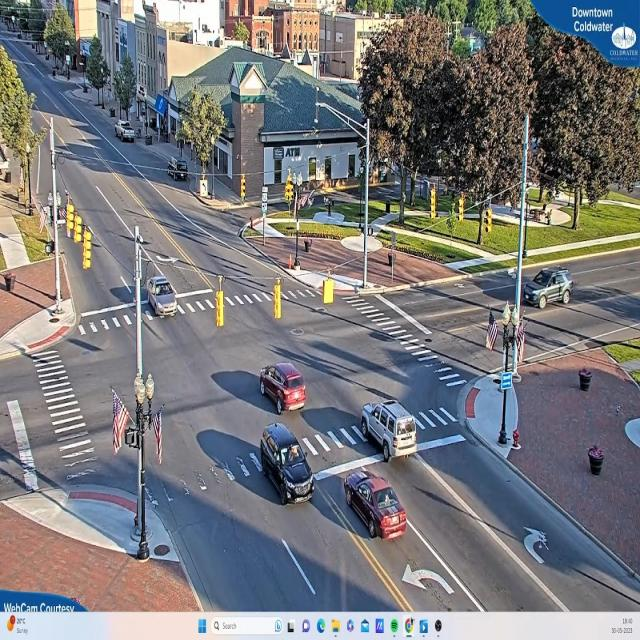car: (344, 472, 408, 543), (260, 426, 314, 505), (361, 399, 418, 464), (257, 362, 308, 412), (143, 270, 178, 320), (116, 122, 137, 142)
truck: (524, 266, 572, 308)
